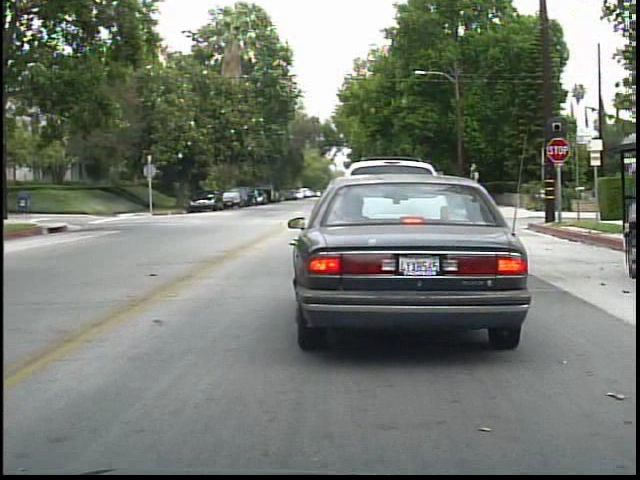person: (253, 184, 260, 209)
